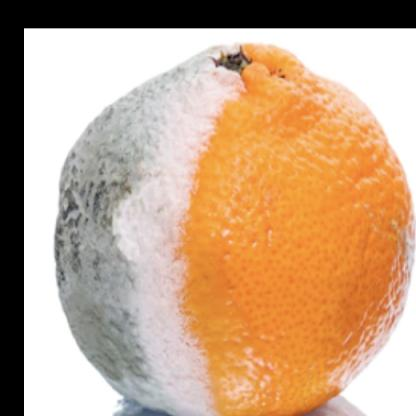rotten: (57, 46, 415, 416)
